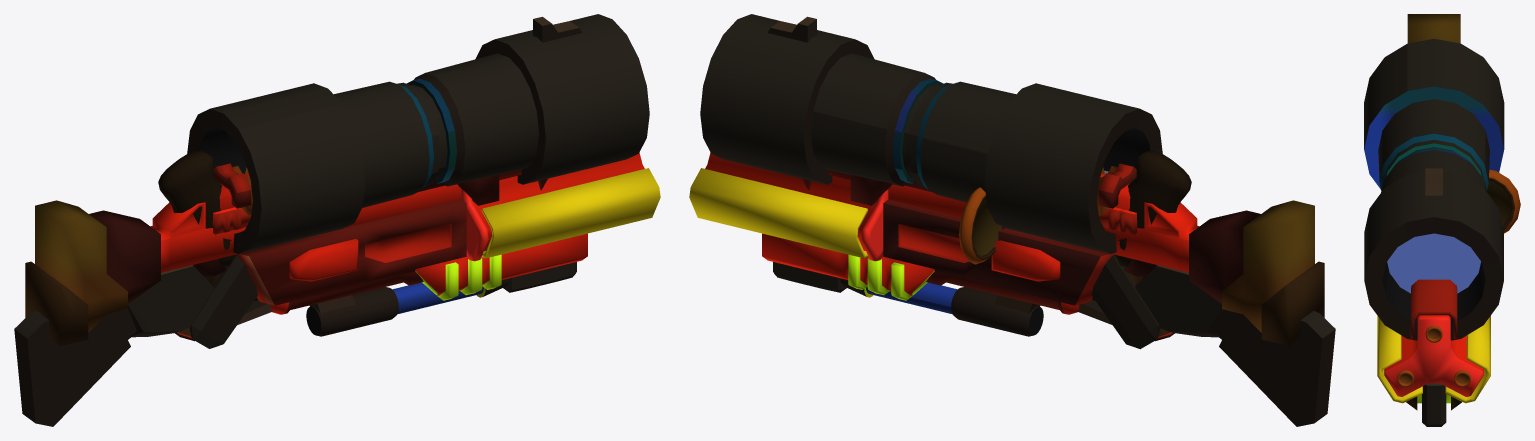
The model's file is ChronoGun.fbx.
The picture shows the model from 3 angles, left to right: view 1: azimuth 30°, elevation 25°; view 2: azimuth 150°, elevation 25°; view 3: azimuth 270°, elevation 25°; orthographic projection. The views are drawn at different scales.
Visible parts, largest first — view 1: g_polySurface21, polySurface46, Cylinder008_001; view 2: g_polySurface21, polySurface46, Cylinder008_001, Cylinder008; view 3: g_polySurface21, polySurface46, Cylinder008.
Boxes of the visible parts, x1,y1,x2,y2 form: g_polySurface21: (14,14,649,426); polySurface46: (25,152,660,346); Cylinder008_001: (158,150,257,301); g_polySurface21: (700,14,1335,426); polySurface46: (689,152,1324,346); Cylinder008_001: (1092,150,1191,300); Cylinder008: (959,187,1005,264); g_polySurface21: (1364,38,1504,426); polySurface46: (1377,14,1490,410); Cylinder008: (1487,169,1520,233).
Size of the model in its own units: 2.07 by 0.904 by 0.4878.
